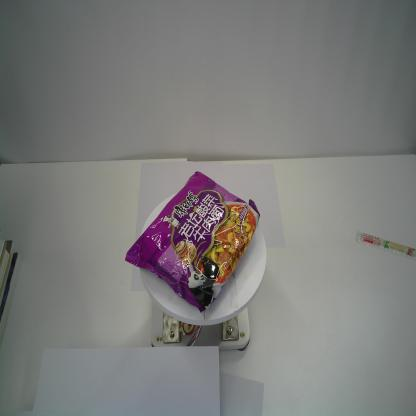Instant Noodles: (124, 170, 262, 314)
